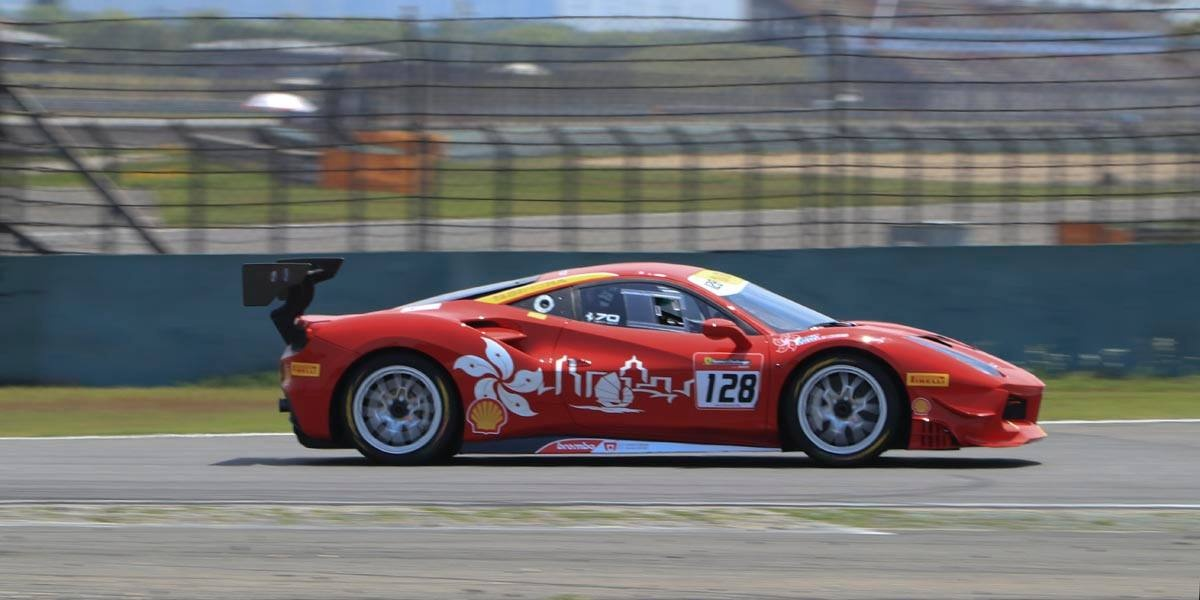racing car: (251, 204, 1036, 496)
